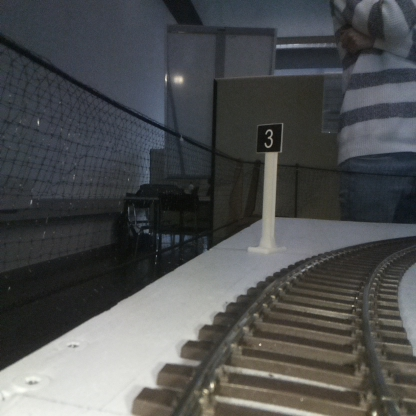black-info-3: (257, 124, 281, 251)
